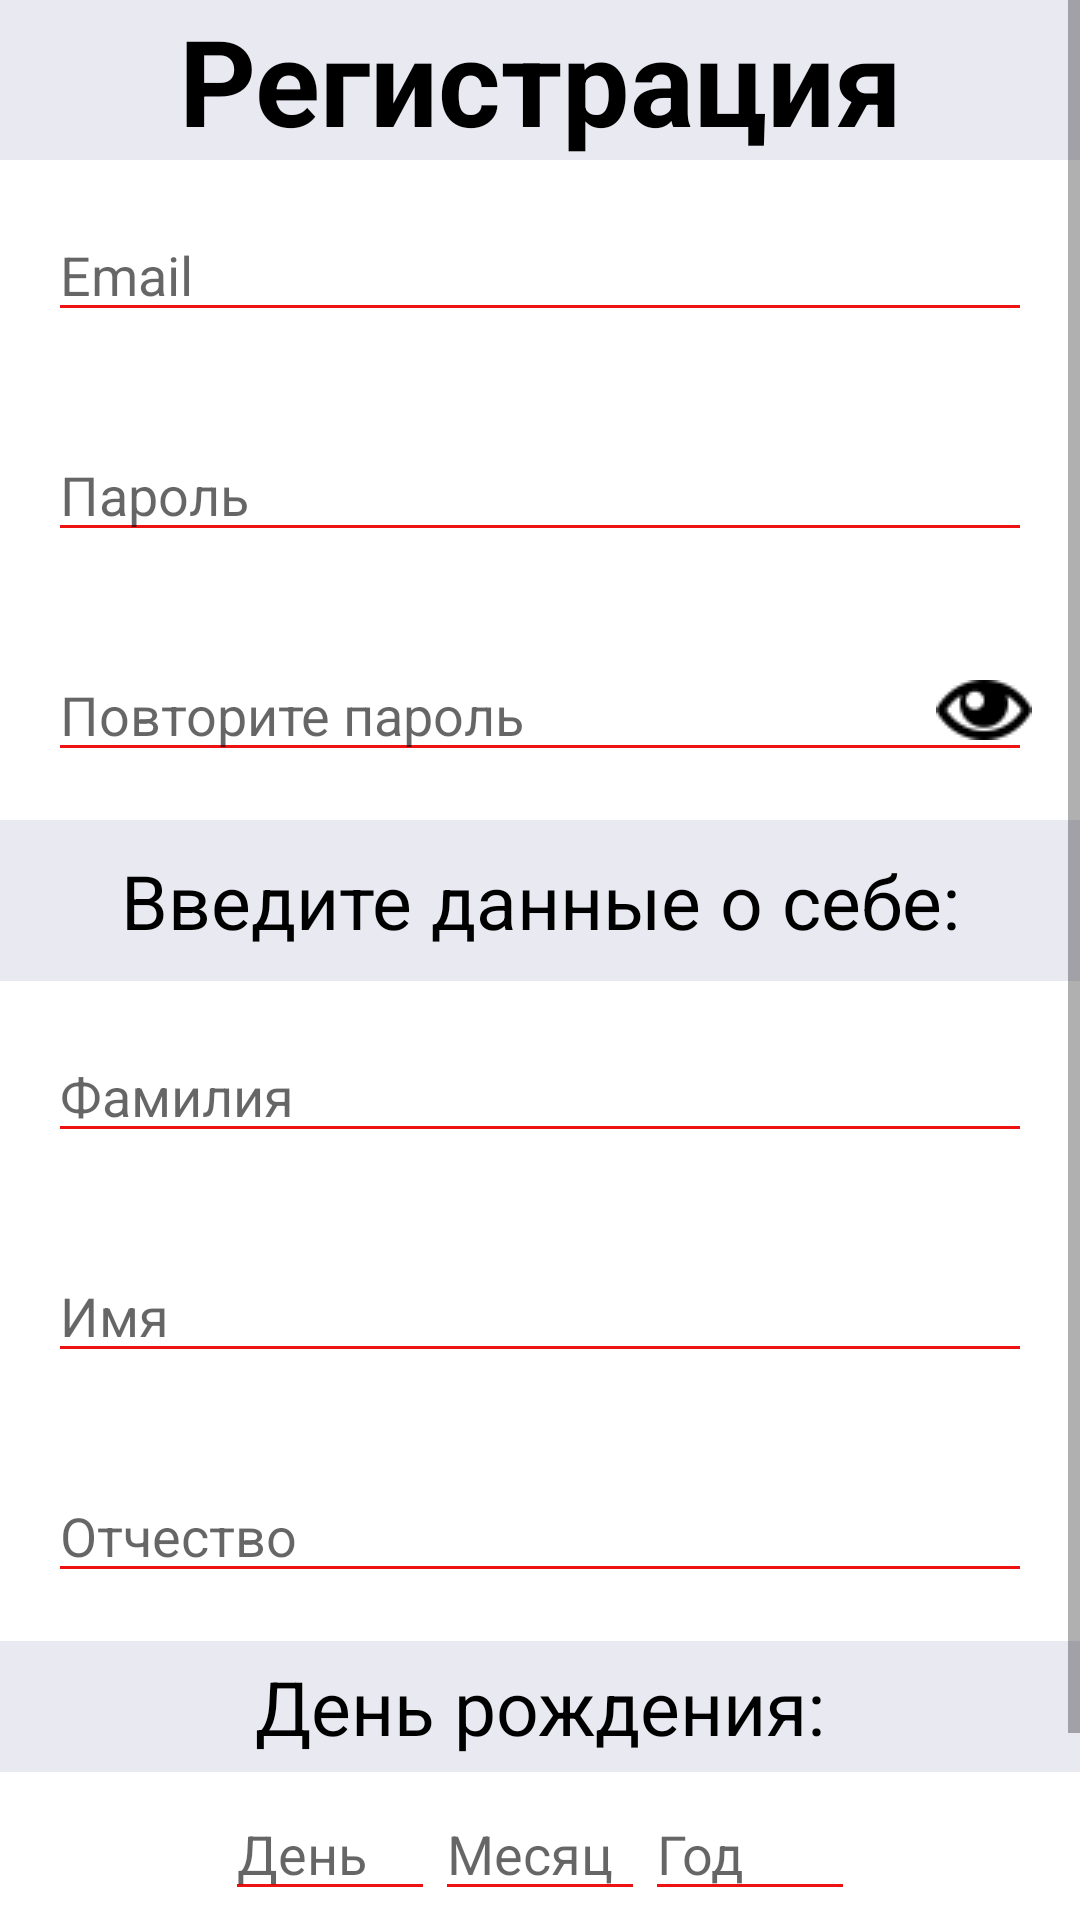

Screen size 1080×1920. Icon name, then its center in pixels as (x,y):
show password: (984,710)
